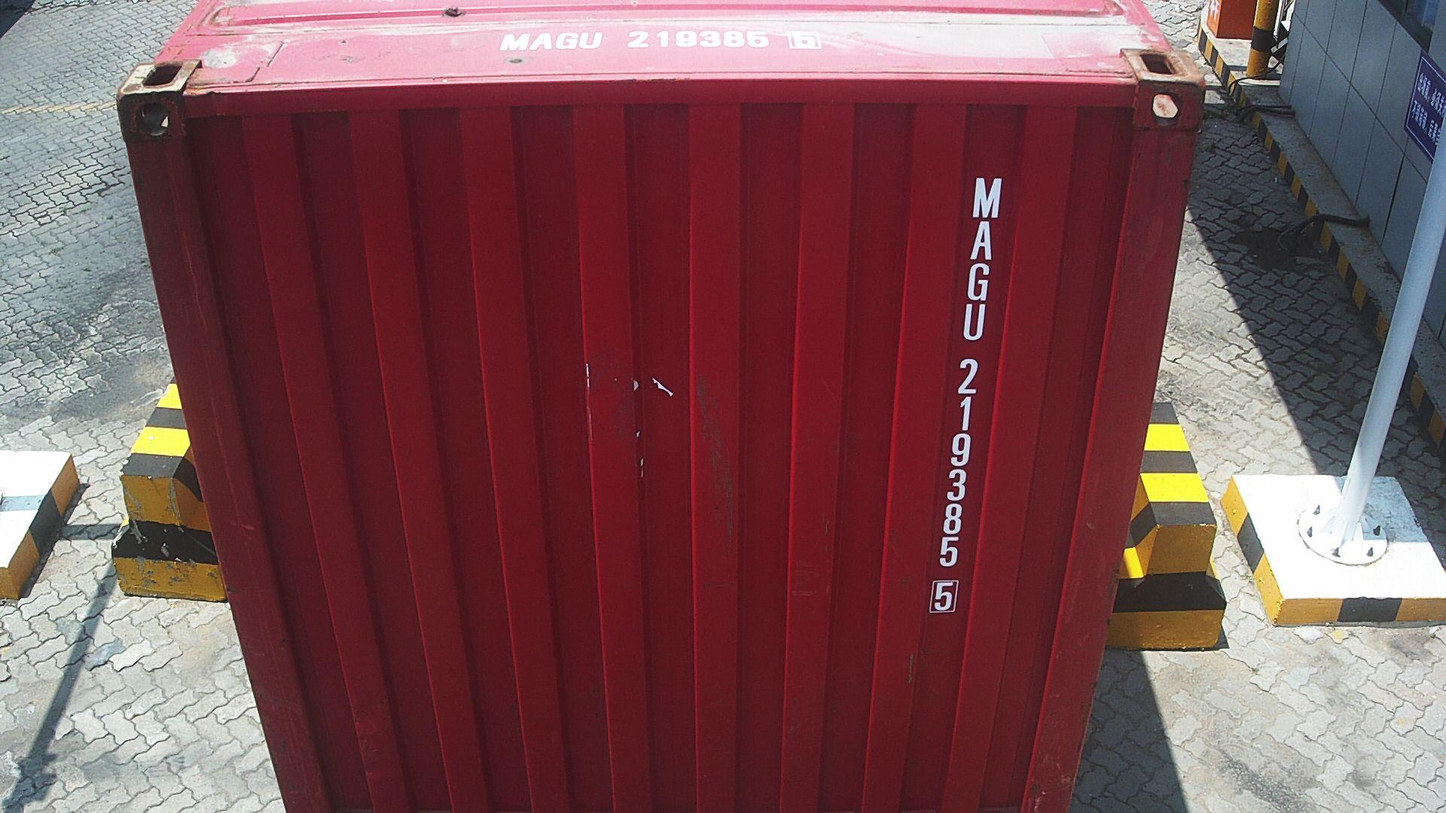container-numbers: (924, 173, 1006, 619), (490, 26, 832, 55)
